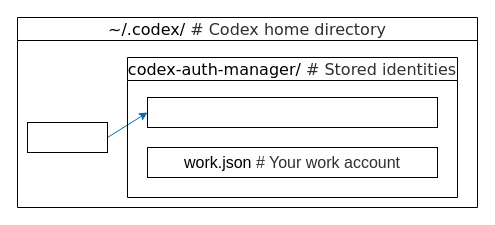
This 495x225 diagram has some shape labels left out. Each missing label, with the centre of its shape:
"auth.json" belongs at (67,137).
"personal.json # Your personal account" belongs at (292,112).
